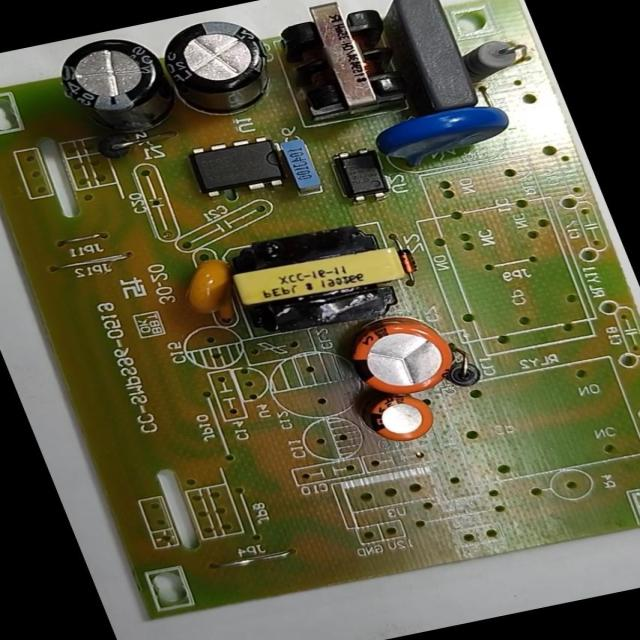Cap1: (327, 303, 471, 406)
Cap2: (344, 383, 452, 458)
Cap3: (144, 6, 294, 127)
Cap4: (39, 26, 186, 149)
MOSFET: (166, 122, 307, 208)
Mov: (358, 92, 532, 182)
Resistor: (449, 32, 543, 90)
Transformer: (200, 210, 424, 348), (258, 0, 424, 129)
